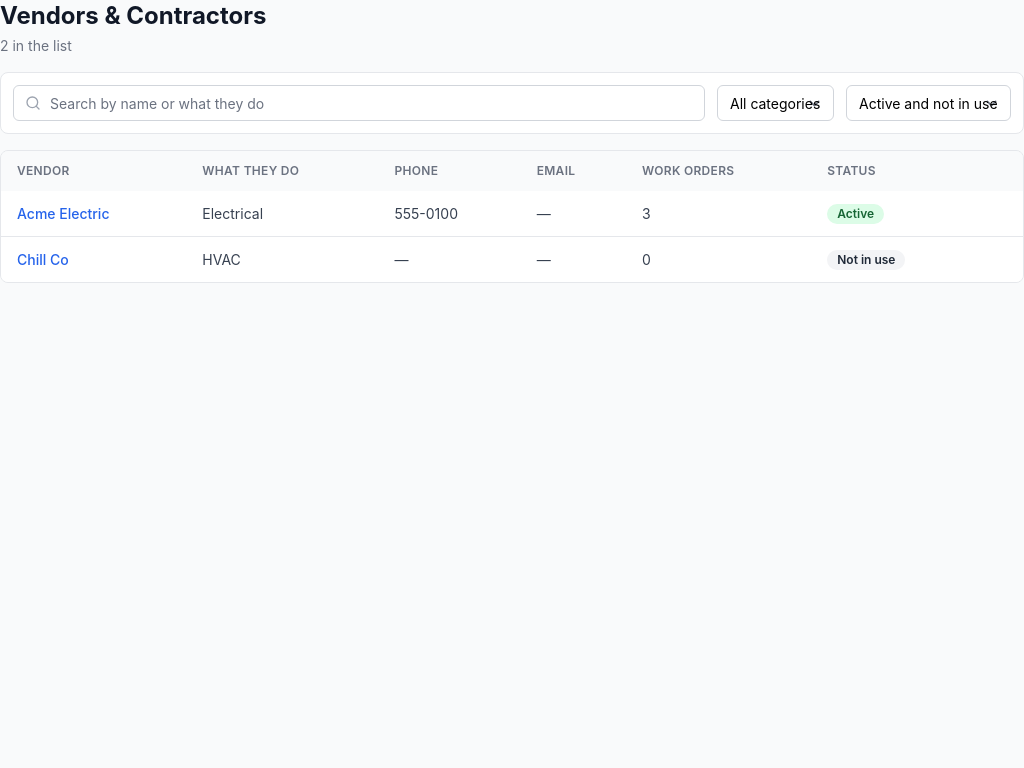
it: VendorsPage › shows a technician the list and the contacts, with nothing to change
This screenshot has width=1024, height=768.
Click the button "Acme Electric": (63, 214) [17,204,110,224]
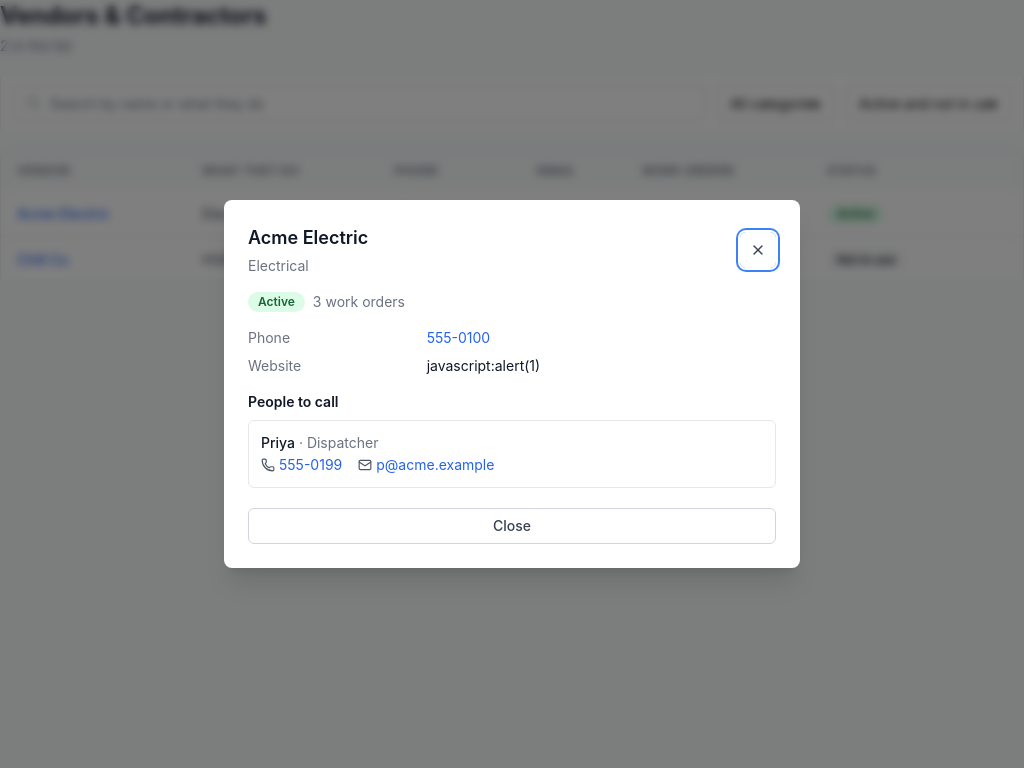
Result: the text "Priya" is shown at [261,434,295,451]
